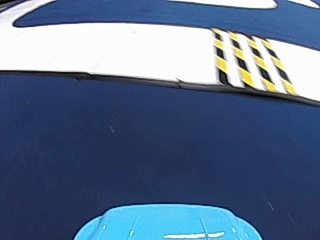bump: (190, 28, 288, 92)
